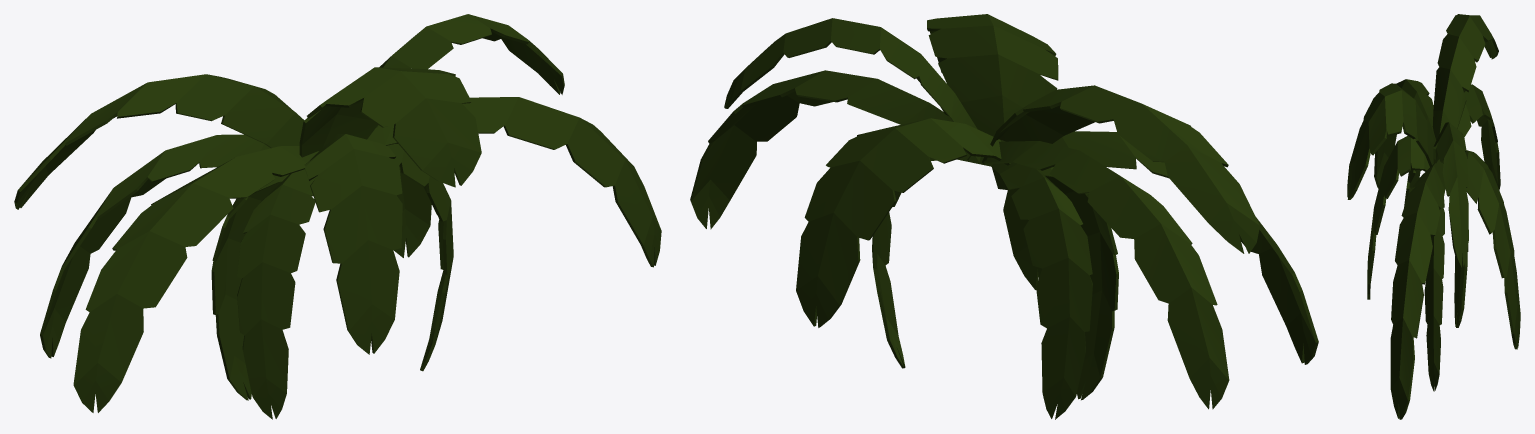
3 renders of one model, left to right at view 1: azimuth 30°, elevation 25°; view 2: azimuth 150°, elevation 25°; view 3: azimuth 270°, elevation 25°, orthographic. The views are drawn at different scales.
Visible parts, largest first — view 1: CoconutLeave2_(Daunkelapa2); view 2: CoconutLeave2_(Daunkelapa2); view 3: CoconutLeave2_(Daunkelapa2).
Part boxes in pixels (x1,y1,x2,y2): CoconutLeave2_(Daunkelapa2): [14, 14, 661, 419]; CoconutLeave2_(Daunkelapa2): [690, 14, 1318, 419]; CoconutLeave2_(Daunkelapa2): [1347, 14, 1520, 419].
Size of the model in its own units: 10.23 by 5.46 by 3.13.
